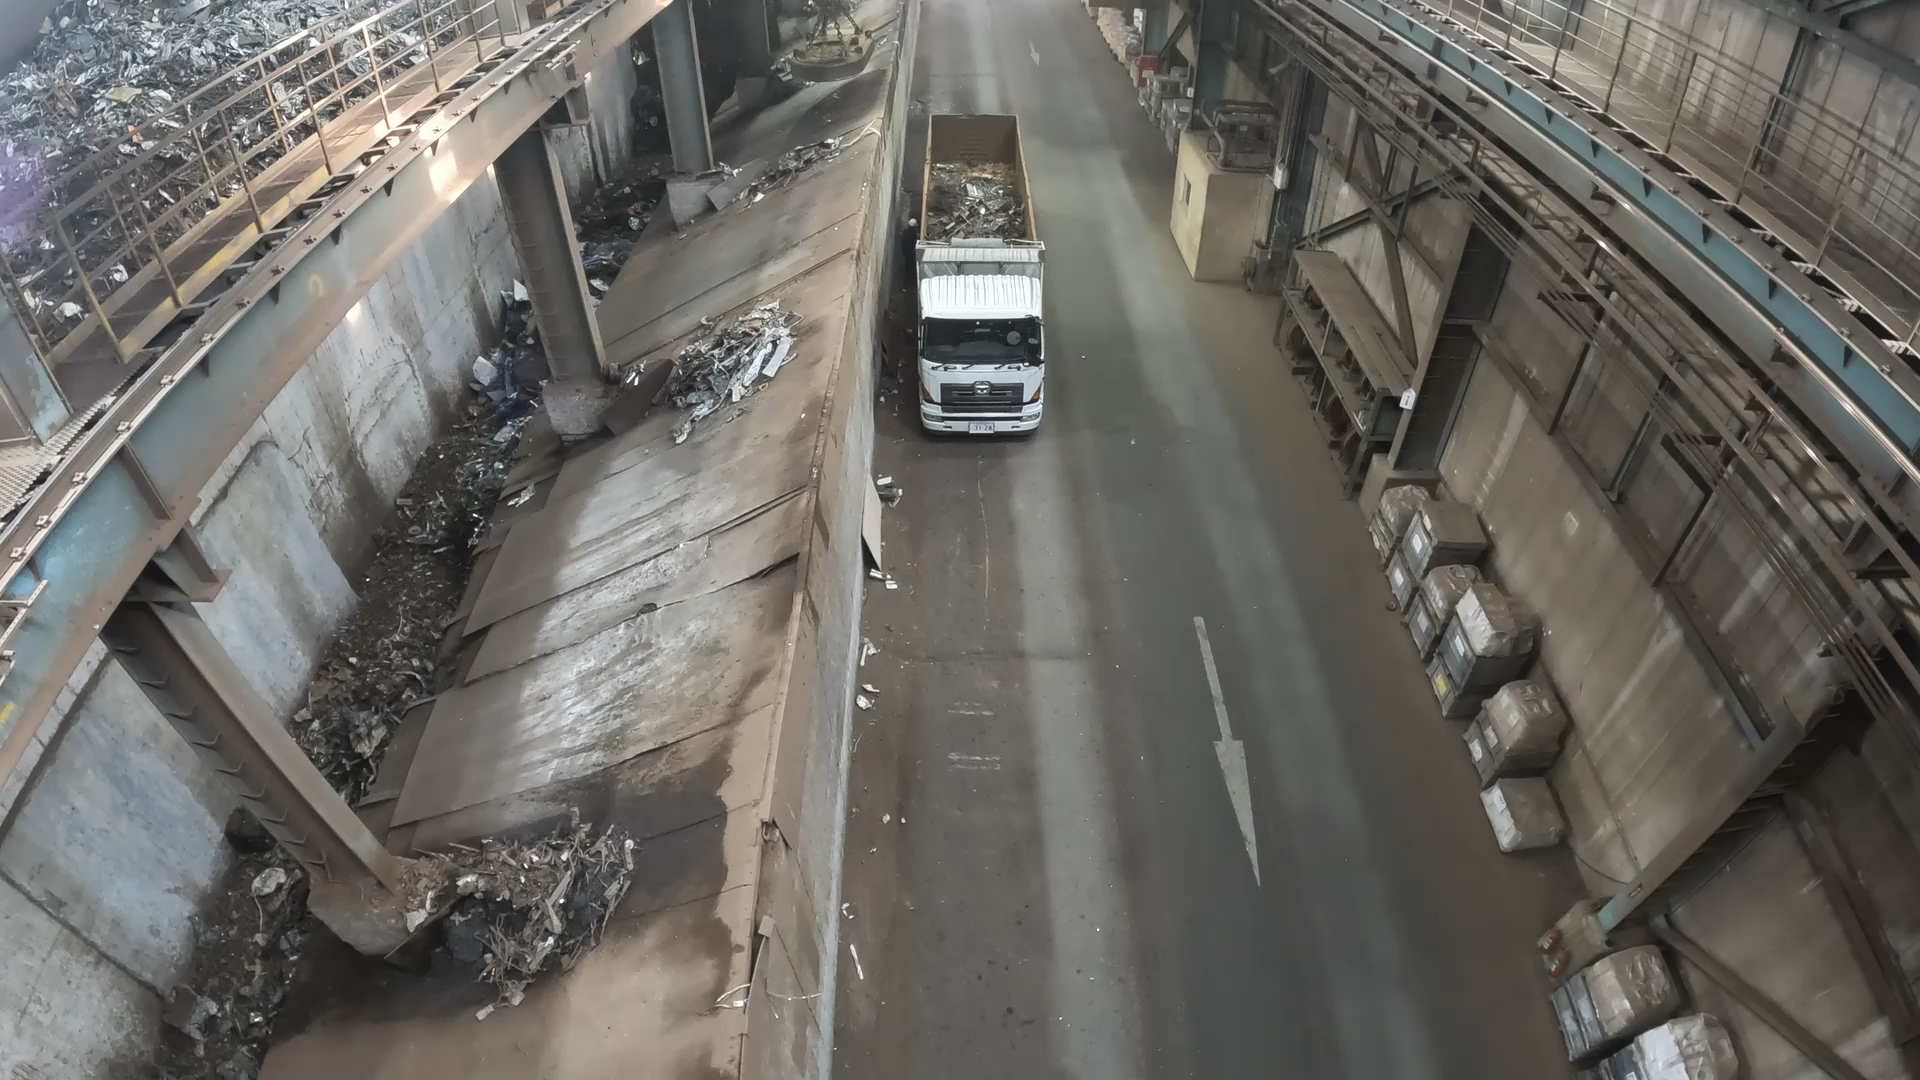truck: (920, 113, 1038, 248)
